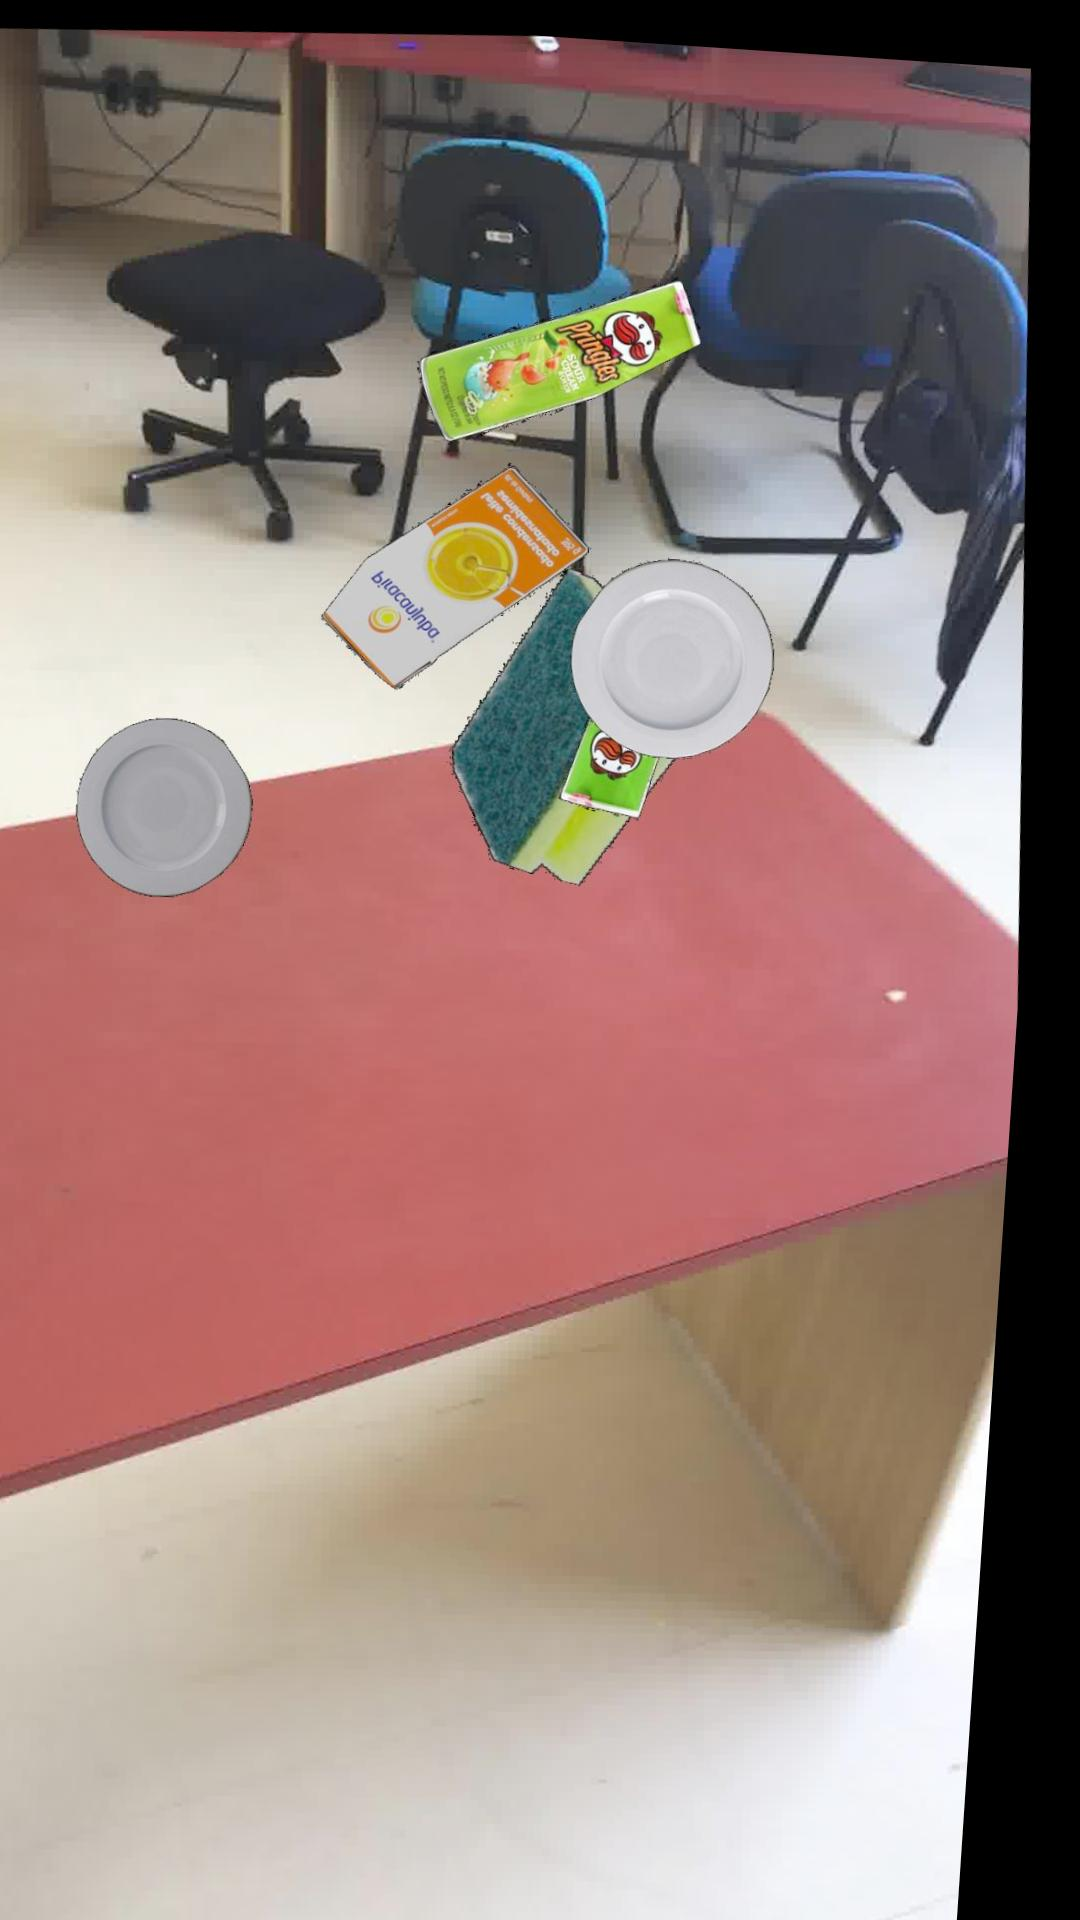plate: (576, 545, 779, 745), (84, 712, 261, 890)
pringles: (419, 268, 703, 433), (566, 704, 666, 806)
sponge: (459, 558, 683, 874)
